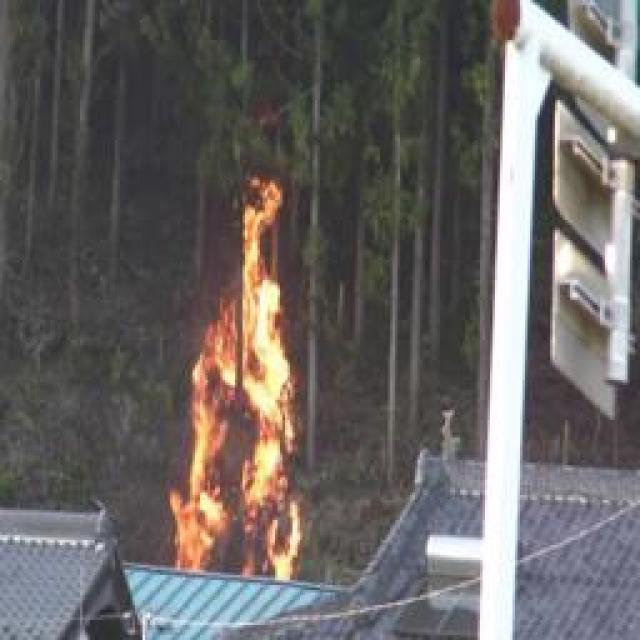Fire: (171, 183, 314, 586)
